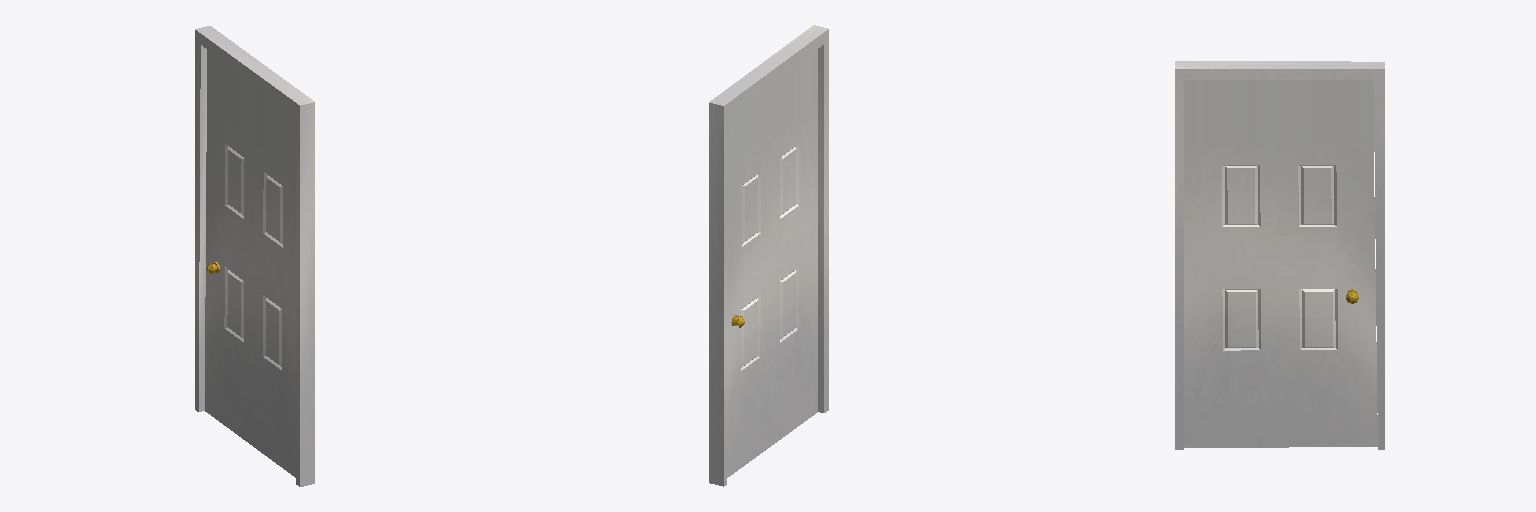
3 renders of one model, left to right at view 1: azimuth 30°, elevation 25°; view 2: azimuth 150°, elevation 25°; view 3: azimuth 270°, elevation 25°, orthographic.
Parts seen in each view (by area): view 1: PuertaTrasera; view 2: PuertaTrasera; view 3: PuertaTrasera.
Boxes of the visible parts, <box> form: PuertaTrasera: <box>195,26,314,486</box>; PuertaTrasera: <box>709,25,828,486</box>; PuertaTrasera: <box>1175,61,1384,449</box>.
Size of the model in its own units: 0.6848 by 10.26 by 5.12.
2 materials, 2 textured.